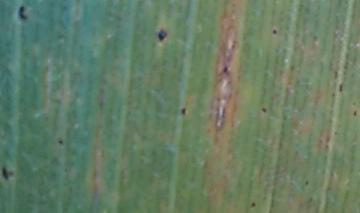tarspot: (15, 4, 29, 21), (1, 166, 15, 182), (155, 27, 168, 43), (180, 106, 188, 117), (337, 83, 344, 94), (270, 27, 279, 35), (56, 138, 64, 146), (250, 200, 256, 210), (304, 178, 310, 188), (260, 106, 267, 113), (352, 109, 358, 117), (222, 65, 227, 74)
